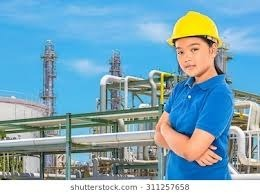helmet: (166, 11, 222, 47)
person with partial safety: (160, 10, 231, 177)
